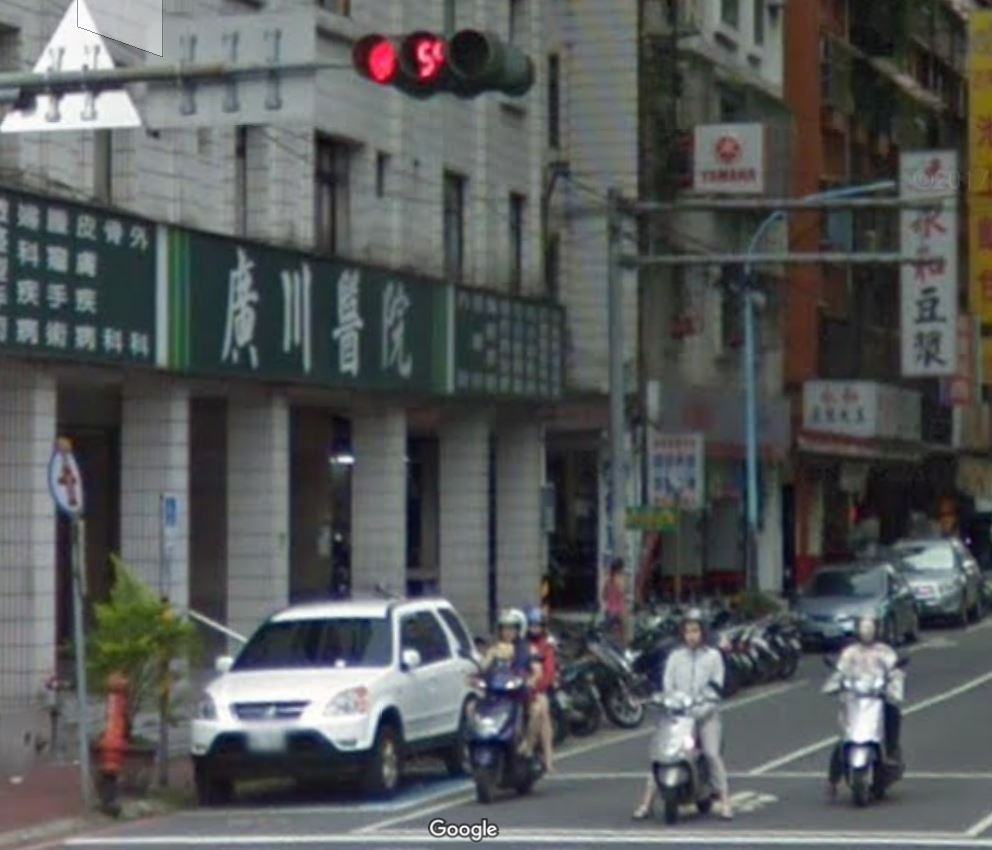Traffic_light_red: (352, 28, 507, 89)
